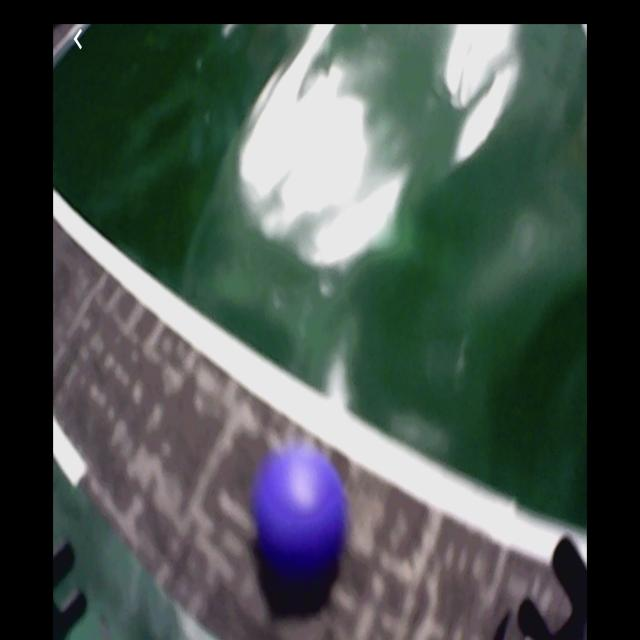ball: (254, 451, 349, 583)
